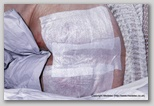NA: (37, 12, 118, 92)
